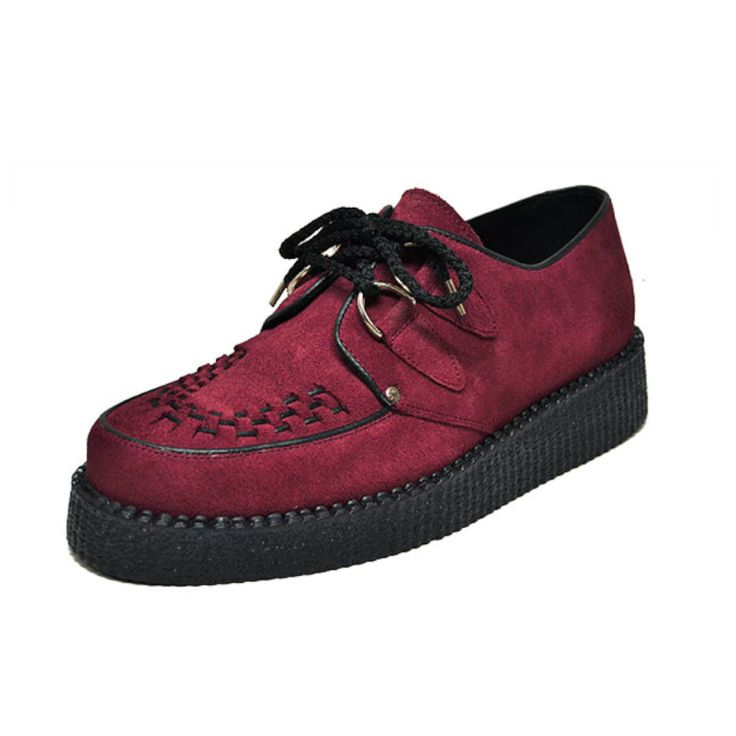gamuza: (87, 180, 636, 515)
